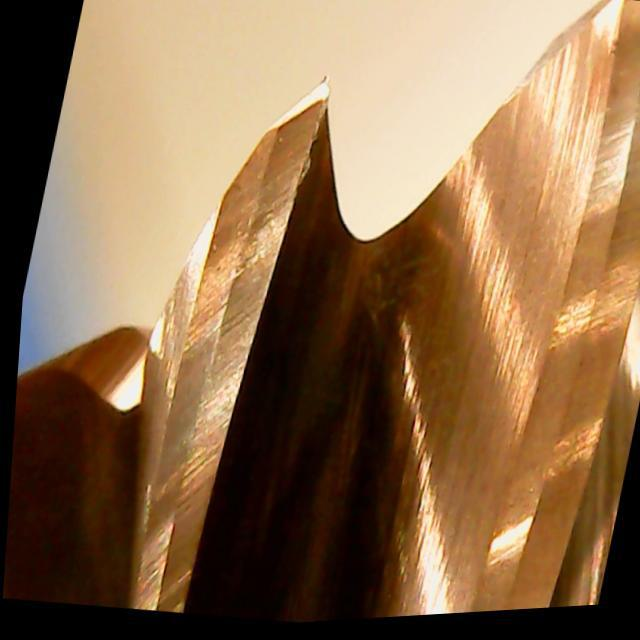Tool-wear-class-0: (131, 57, 351, 446)
